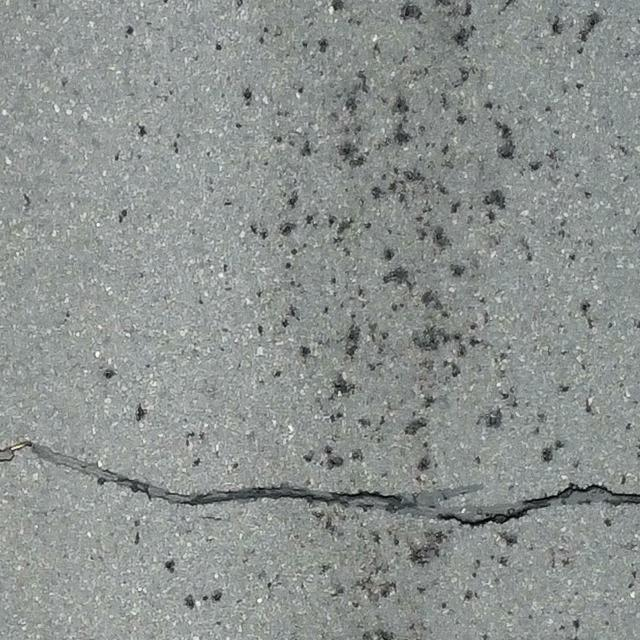TransverseCrack: (1, 440, 640, 526)
